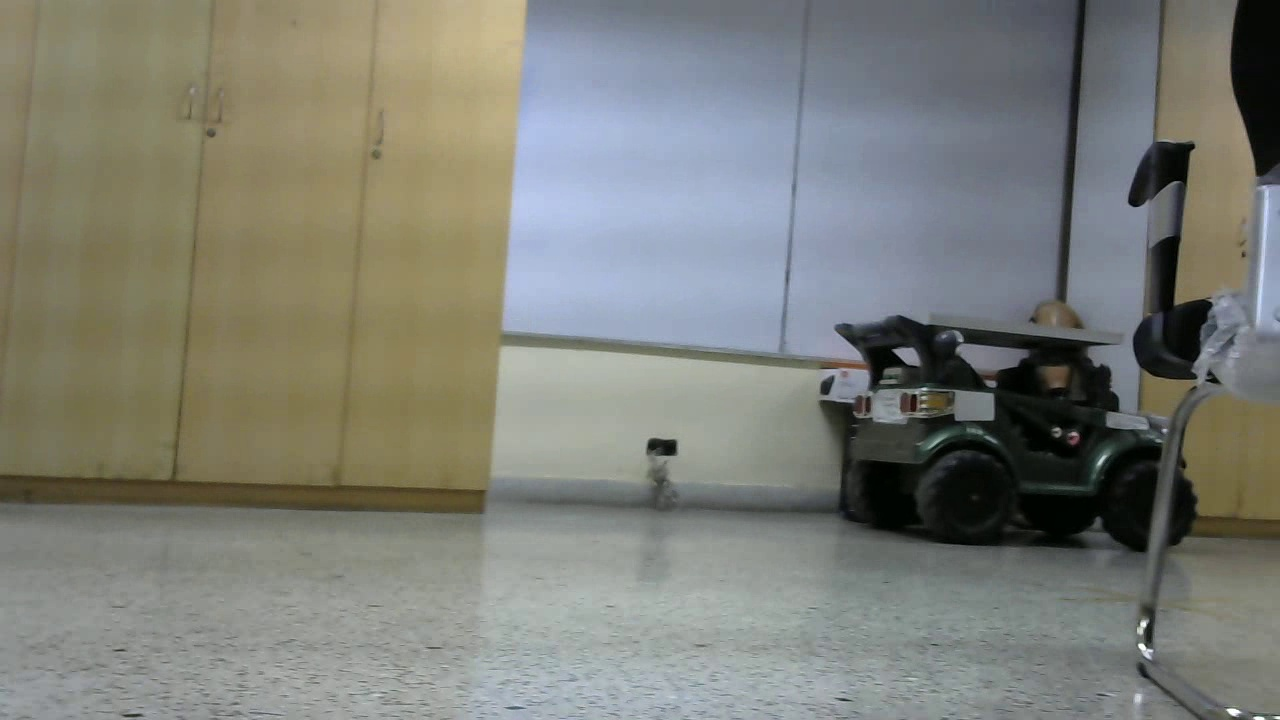chair: (556, 96, 822, 576)
